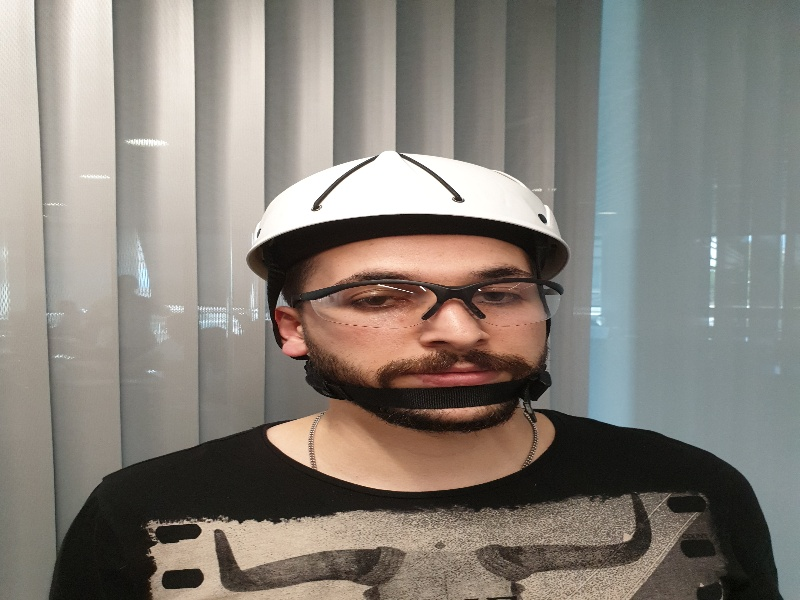Baret: (248, 147, 568, 254)
Gozluk: (287, 277, 572, 329)
